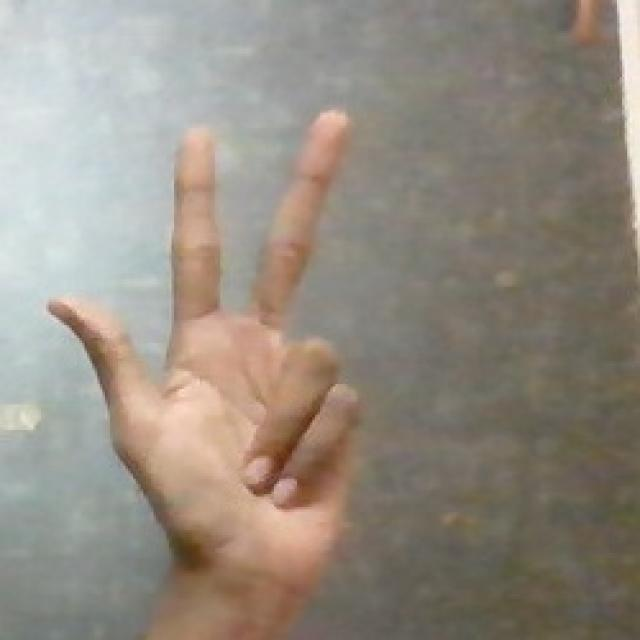Numeric-3: (47, 104, 361, 621)
